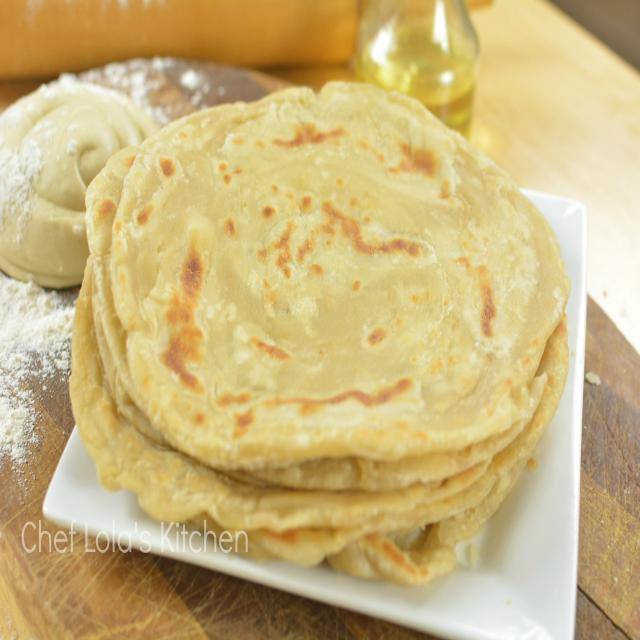roti: (65, 76, 576, 581)
